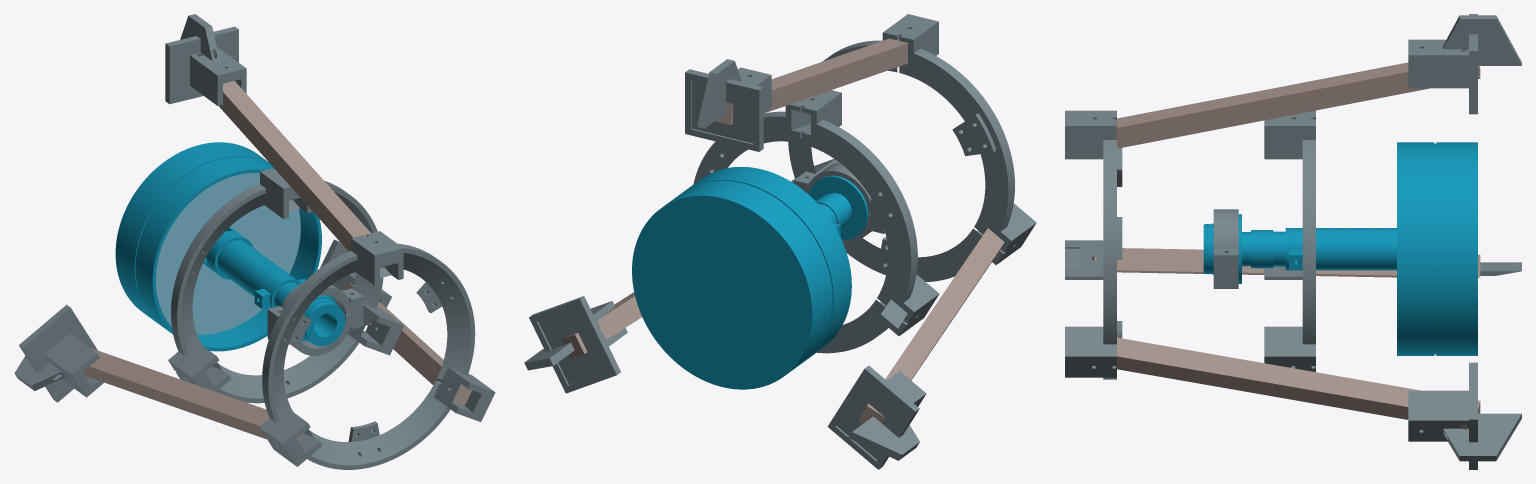
The model's file is conjunto_agua.glb.
3 views of the same model, side by side, from view 1: azimuth 30°, elevation 25°; view 2: azimuth 150°, elevation 25°; view 3: azimuth 270°, elevation 25° (orthographic). The views are drawn at different scales.
Parts seen in each view (by area): view 1: world; view 2: world; view 3: world.
Part boxes in pixels (x1,y1,x2,y2): world: (14, 14, 495, 469); world: (524, 14, 1036, 469); world: (1065, 14, 1521, 469).
Bounding box in the file's own units: 407 × 368 × 406.
